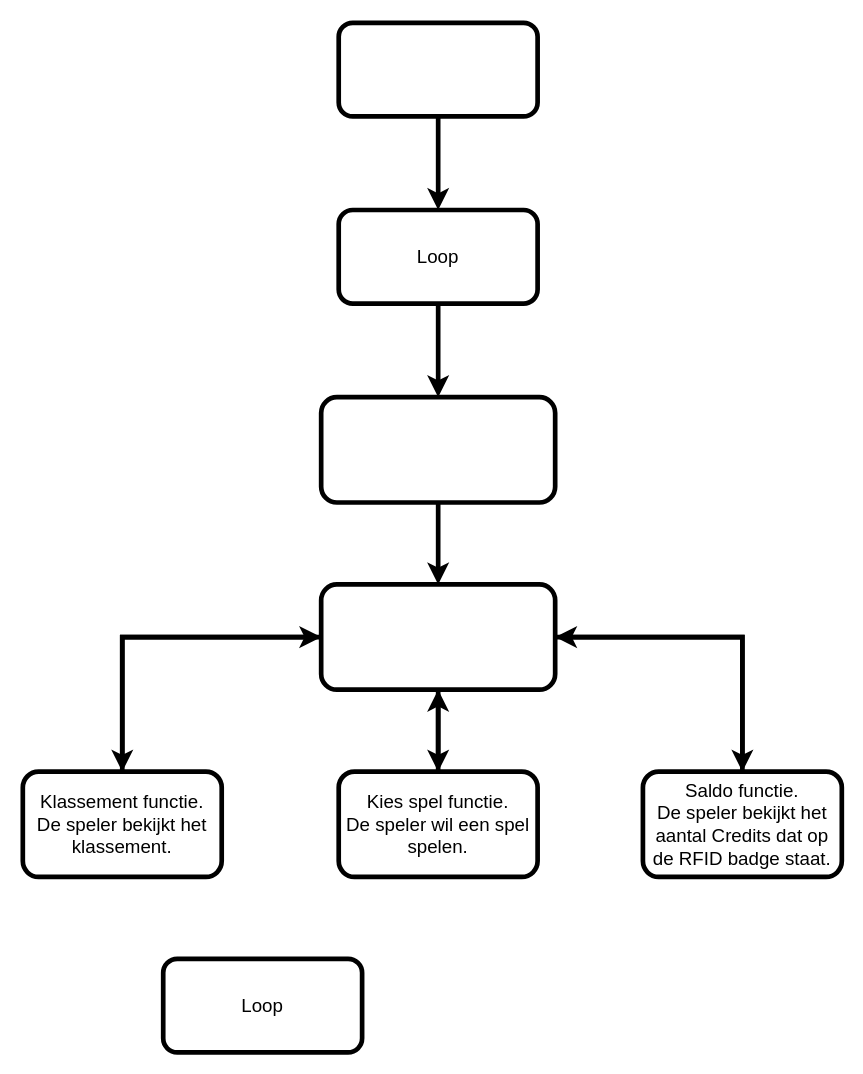
The diagram is 863 pixels wide and 1074 high, and some of its shapes have lost their labels. The centre of each missing label's shape, as x and y in pixels:
Declaren van alle variabelen: the point at 437,69
Keuzemenu functie. Laat de gebruiker een keuze maken.: the point at 437,636
RFIDSCAN functie. Wacht tot een RFID badge op de scanner ligt: the point at 437,449
